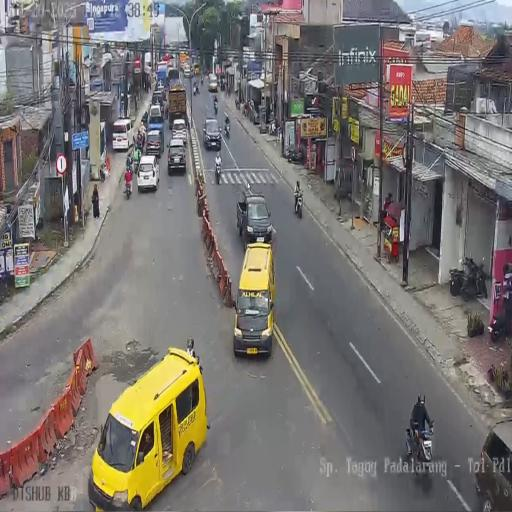car: (88, 345, 208, 506), (233, 243, 276, 355), (235, 188, 272, 247), (137, 154, 160, 193), (167, 137, 187, 175), (112, 117, 133, 152), (202, 115, 222, 150), (145, 129, 162, 159), (148, 104, 163, 128), (245, 99, 259, 124), (207, 74, 218, 93), (156, 80, 165, 96), (184, 64, 191, 78), (194, 62, 200, 76), (180, 60, 185, 72)
motorcycle: (450, 255, 488, 302), (406, 418, 436, 464), (488, 310, 506, 342), (285, 142, 304, 164), (294, 186, 303, 219), (214, 154, 222, 183), (135, 133, 144, 152), (125, 176, 132, 199), (134, 154, 140, 175), (224, 121, 230, 139), (213, 97, 218, 114), (193, 84, 199, 97), (164, 106, 169, 121), (220, 77, 225, 91), (200, 75, 204, 85)
truck: (168, 83, 187, 128), (167, 66, 179, 88)
